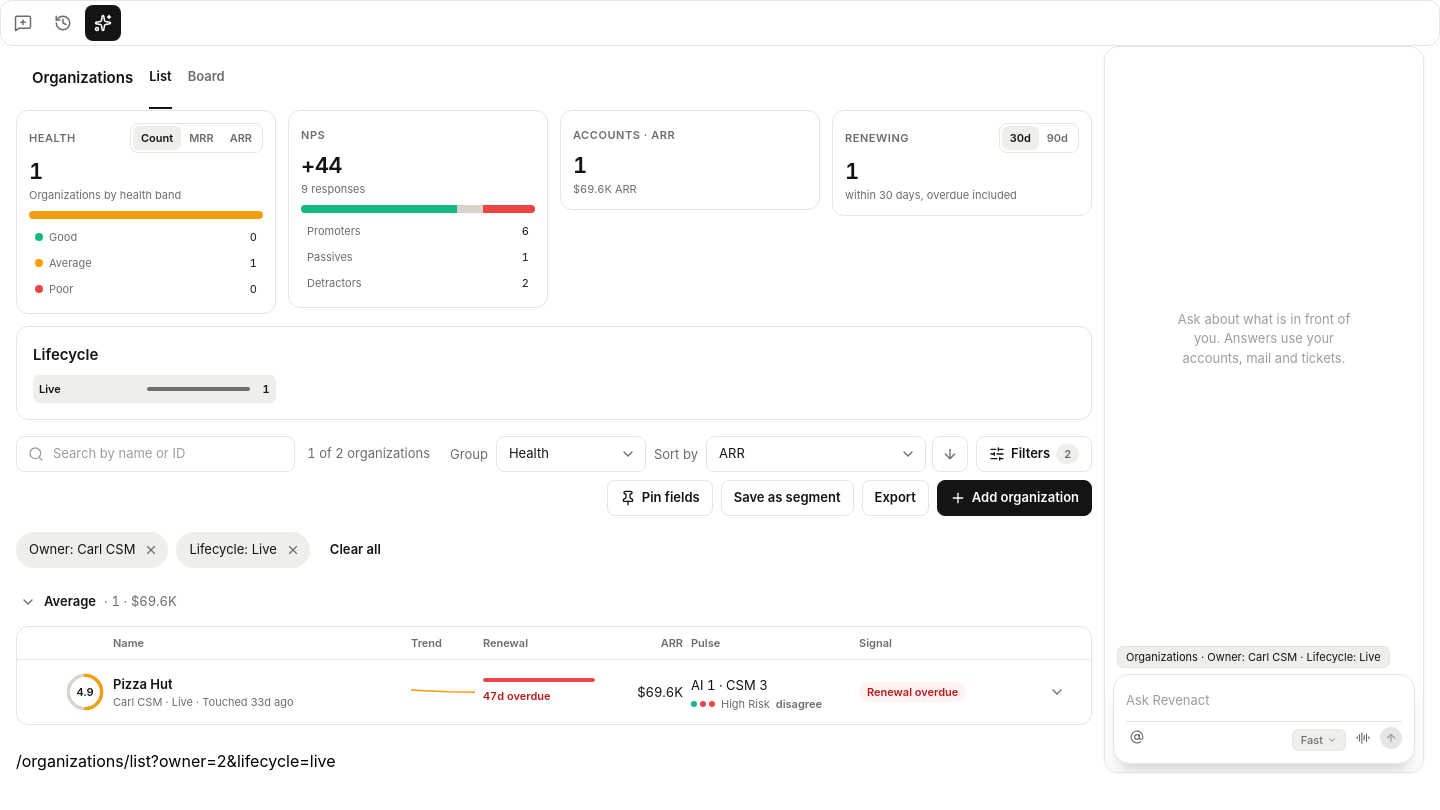
it: Ask Revenact on Organizations › asks with the list's filters and names them in the chip
The width and height of the screenshot is (1440, 810).
Expected: the link "Pizza Hut" is shown, [113,674,172,694]
Expected: the text "Organizations · Owner: Carl CSM · Lifecycle: Live" is shown, [1117,646,1390,668]
In the field with placeholder "Ask Revenact": (1264, 701) [1126,689,1402,712], type "Who renews first?"
Then press Enter
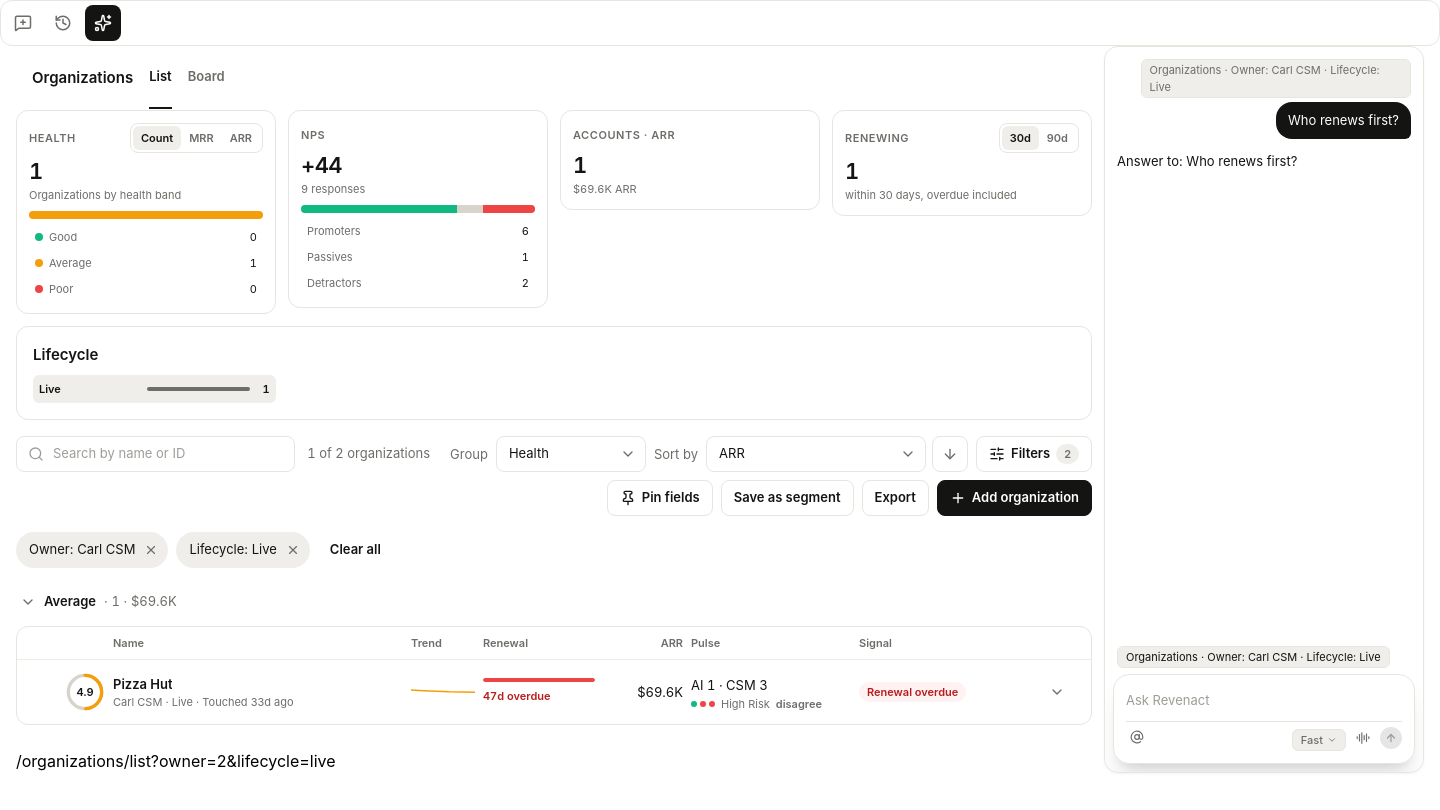
Expected: the text "Answer to: Who renews first?" is shown, [1117,151,1297,172]
Expected: the 1st text "Organizations · Owner: Carl CSM · Lifecycle: Live" is shown, [1140,59,1411,98]
